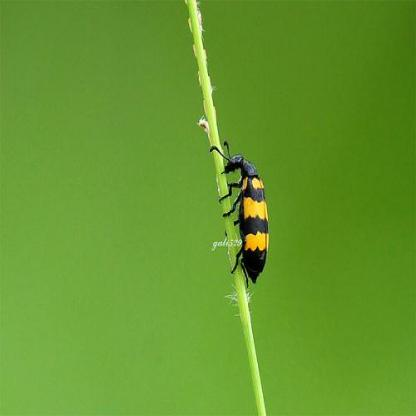beetle: (219, 137, 272, 284)
